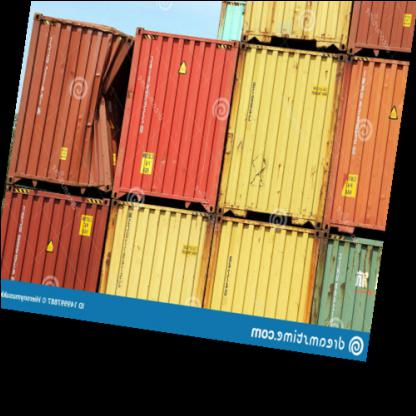Damage: (78, 45, 142, 199), (243, 144, 279, 184)
